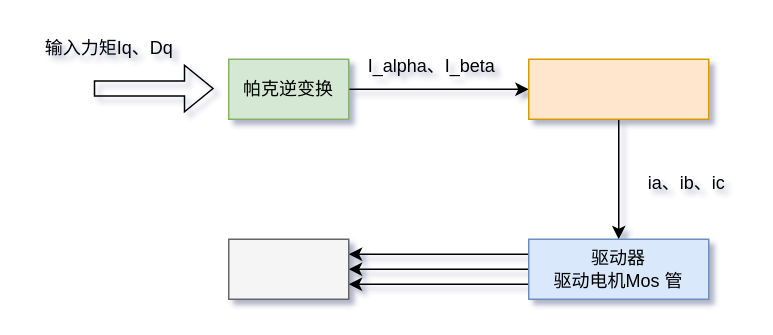
Image size: 773x335. Some labels were removed from this diagram. The shapes that lost their labels are listed below. From the top down, each one's centre as x and y in pixels, then its label:
pixel 618 88: 克拉克逆变换
pixel 288 268: 无刷电机
